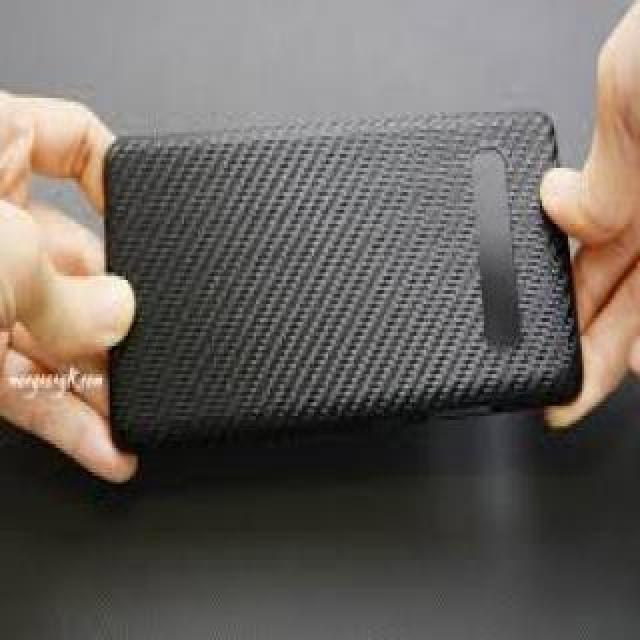smart phone: (92, 93, 605, 417)
